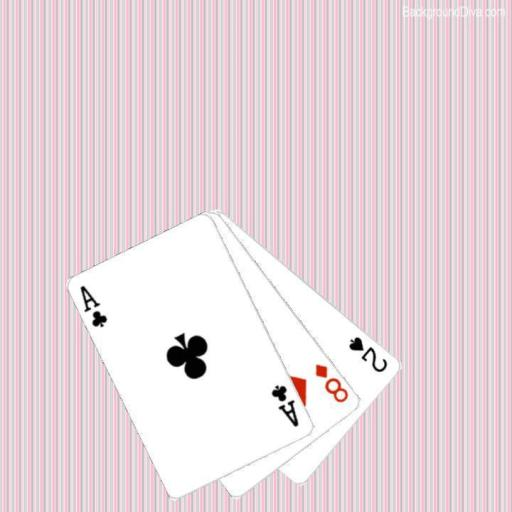card-corner: (346, 334, 390, 374), (312, 360, 351, 404), (268, 382, 301, 429), (77, 282, 109, 330)
